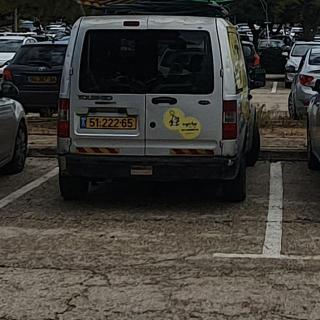LicensePlate: (87, 118, 135, 128)
